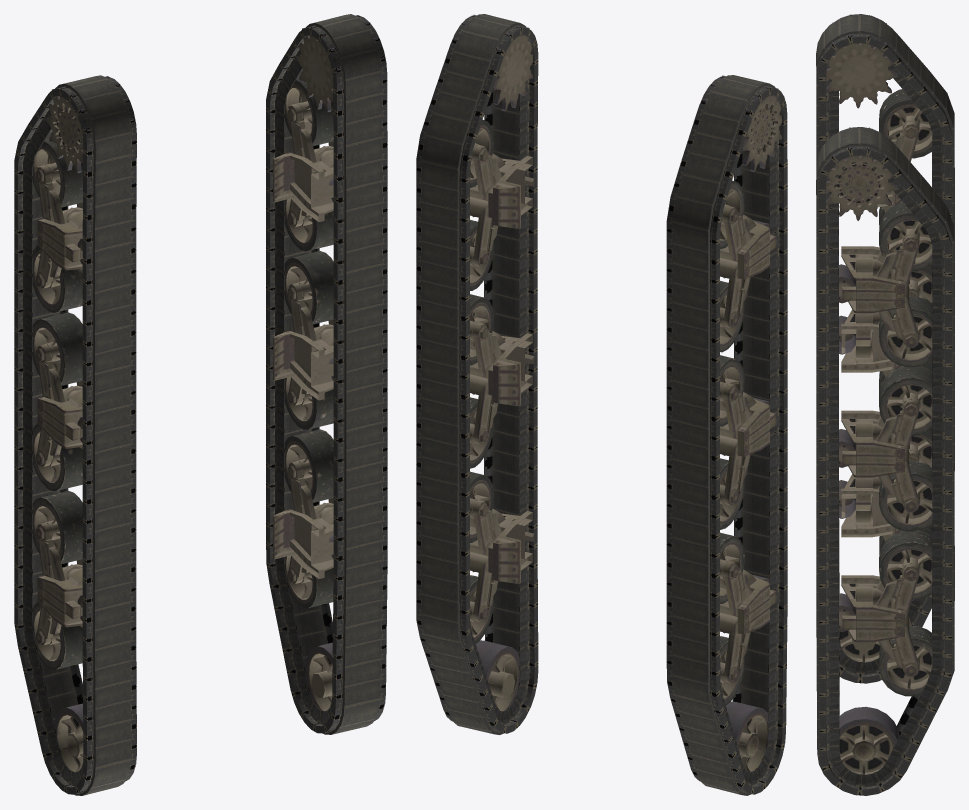
File: Chassis.glb
3 views of the same model, side by side, from view 1: azimuth 30°, elevation 25°; view 2: azimuth 150°, elevation 25°; view 3: azimuth 270°, elevation 25° (orthographic). The views are drawn at different scales.
Visible parts, largest first — view 1: set_0_group_0, set_1_group_0, set_2_group_0, set_3_group_0; view 2: set_0_group_0, set_1_group_0, set_2_group_0, set_3_group_0; view 3: set_2_group_0, set_1_group_0, set_3_group_0, set_0_group_0.
Part boxes in pixels (bbox=[...]): set_0_group_0: bbox=[14, 75, 136, 795]; set_1_group_0: bbox=[266, 14, 387, 734]; set_2_group_0: bbox=[273, 15, 385, 710]; set_3_group_0: bbox=[32, 76, 135, 771]; set_0_group_0: bbox=[666, 75, 787, 795]; set_1_group_0: bbox=[416, 14, 538, 734]; set_2_group_0: bbox=[453, 14, 534, 711]; set_3_group_0: bbox=[702, 75, 781, 771]; set_2_group_0: bbox=[818, 127, 932, 774]; set_1_group_0: bbox=[816, 127, 954, 795]; set_3_group_0: bbox=[818, 15, 932, 662]; set_0_group_0: bbox=[816, 14, 954, 683].
Bounding box in the file's own units: 2.57 × 5.68 × 1.1.
4 materials, 4 textured.
